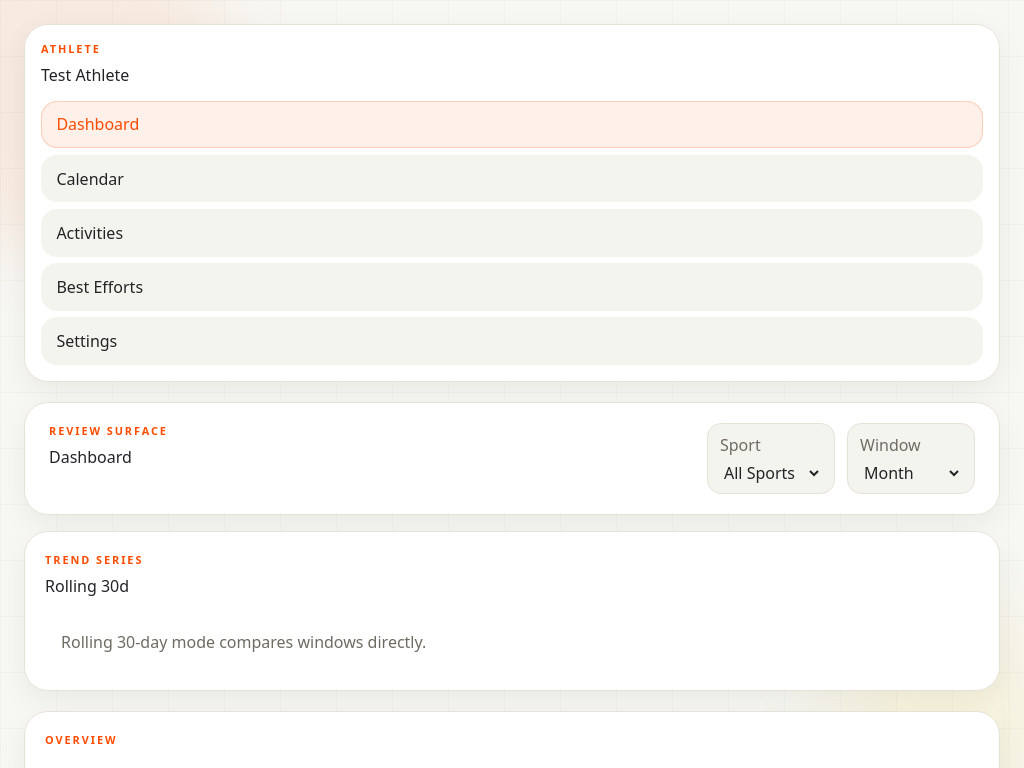
Scenario: App › renders activity list rows with name and distance on top and date plus type aligned below
Click the button "Activities".
click(90, 233)  # box [41, 209, 983, 257]
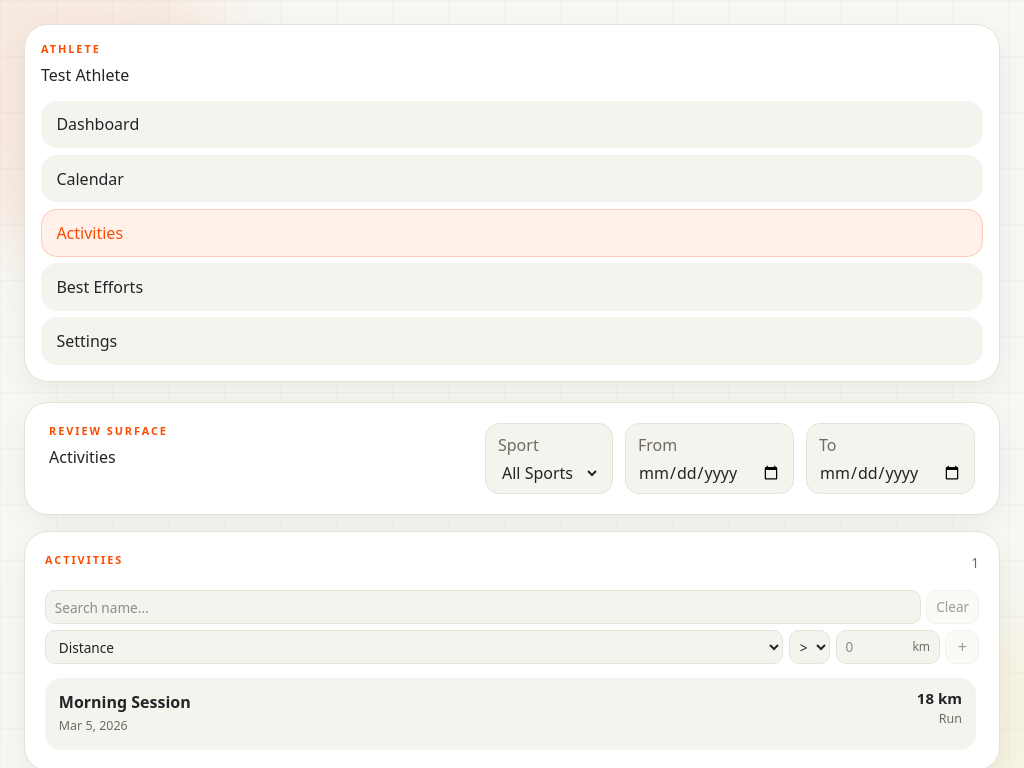
Check: the button "Morning Session Mar 5, 2026 18 km Run" is shown, box [45, 678, 976, 750]
Check: the element with class "activity-row-left" is shown, box [59, 692, 191, 734]
Check: the element with class "activity-row-right" is shown, box [917, 688, 962, 727]
